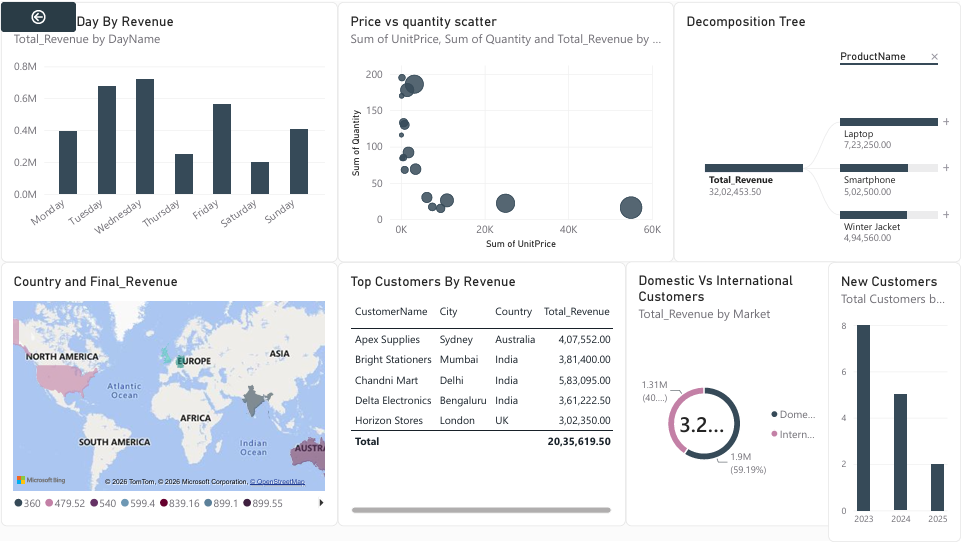

This screenshot's page, from the dashboard's own definition file:
{"tool":"powerbi","page":{"name":"Page 2","canvas":[1280,720],"ordinal":1},"visuals":[{"type":"columnChart","title":"Strongest Day By Revenue","fields":{"Category":["Date.DayName"],"Y":["OrderDetails.Total_Revenue"]},"box":[0,0,449.3,347],"z":0},{"type":"scatterChart","title":"Price vs quantity scatter","fields":{"Category":["Products.ProductName"],"Size":["OrderDetails.Total_Revenue"],"X":["Sum(Products.UnitPrice)"],"Y":["Sum(OrderDetails.Quantity)"]},"box":[449.3,0,447.8,347],"z":1000},{"type":"decompositionTreeVisual","title":"Decomposition Tree","fields":{"Analyze":["OrderDetails.Total_Revenue"],"ExplainBy":["Products.ProductName","Categories.CategoryName"]},"box":[897.1,0,383,347],"z":2000},{"type":"filledMap","fields":{"Category":["Customers.Country"],"Series":["OrderDetails.Final_Revenue"]},"box":[0,347.2,449.3,351.5],"z":3000},{"type":"tableEx","title":"Top Customers By Revenue","fields":{"Values":["Customers.CustomerName","Customers.City","Customers.Country","OrderDetails.Total_Revenue"]},"box":[449.3,347.2,384.1,351.5],"z":4000},{"type":"actionButton","box":[0,0,100,40],"z":5000},{"type":"donutChart","title":"Domestic Vs International Customers","fields":{"Category":["Customers.Market"],"Y":["OrderDetails.Total_Revenue"]},"box":[833.4,345.8,284.9,352.9],"z":6000},{"type":"columnChart","title":"New Customers","fields":{"Category":["Customers.Join_Year"],"Y":["Customers.Total Customers"]},"box":[1103,347,177.1,373],"z":7000}]}

Visuals, with their boxes on the page's 1280x720 design canvas (x1, y1, x2, y2). These are canvas units, not pixel positions in the 972x552 screenshot, which may show the page scaled, cropped or inside an application window:
"Strongest Day By Revenue" columnChart: (x1=0, y1=0, x2=449, y2=347)
"Price vs quantity scatter" scatterChart: (x1=449, y1=0, x2=897, y2=347)
"Decomposition Tree" decompositionTreeVisual: (x1=897, y1=0, x2=1280, y2=347)
filledMap - Customers.Country x OrderDetails.Final_Revenue: (x1=0, y1=347, x2=449, y2=699)
"Top Customers By Revenue" tableEx: (x1=449, y1=347, x2=833, y2=699)
actionButton: (x1=0, y1=0, x2=100, y2=40)
"Domestic Vs International Customers" donutChart: (x1=833, y1=346, x2=1118, y2=699)
"New Customers" columnChart: (x1=1103, y1=347, x2=1280, y2=720)
